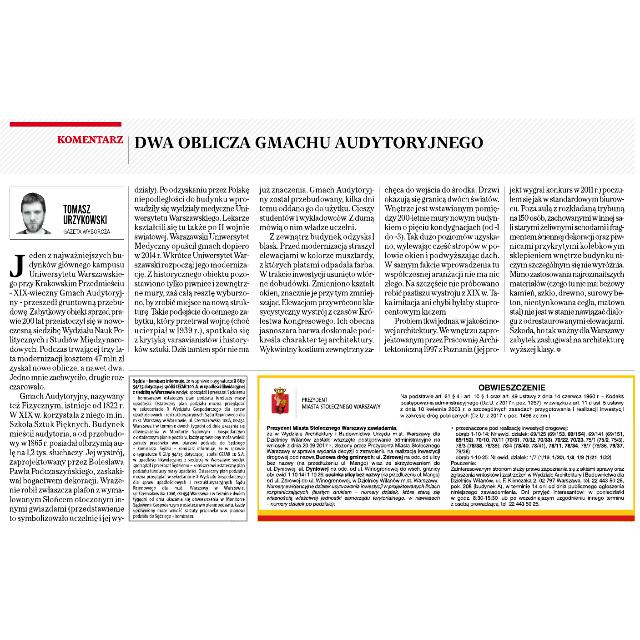author: (60, 200, 111, 226)
body: (8, 248, 126, 522), (382, 183, 502, 355), (507, 184, 628, 354), (258, 182, 376, 356), (134, 183, 250, 357)
title: (56, 131, 487, 153)
